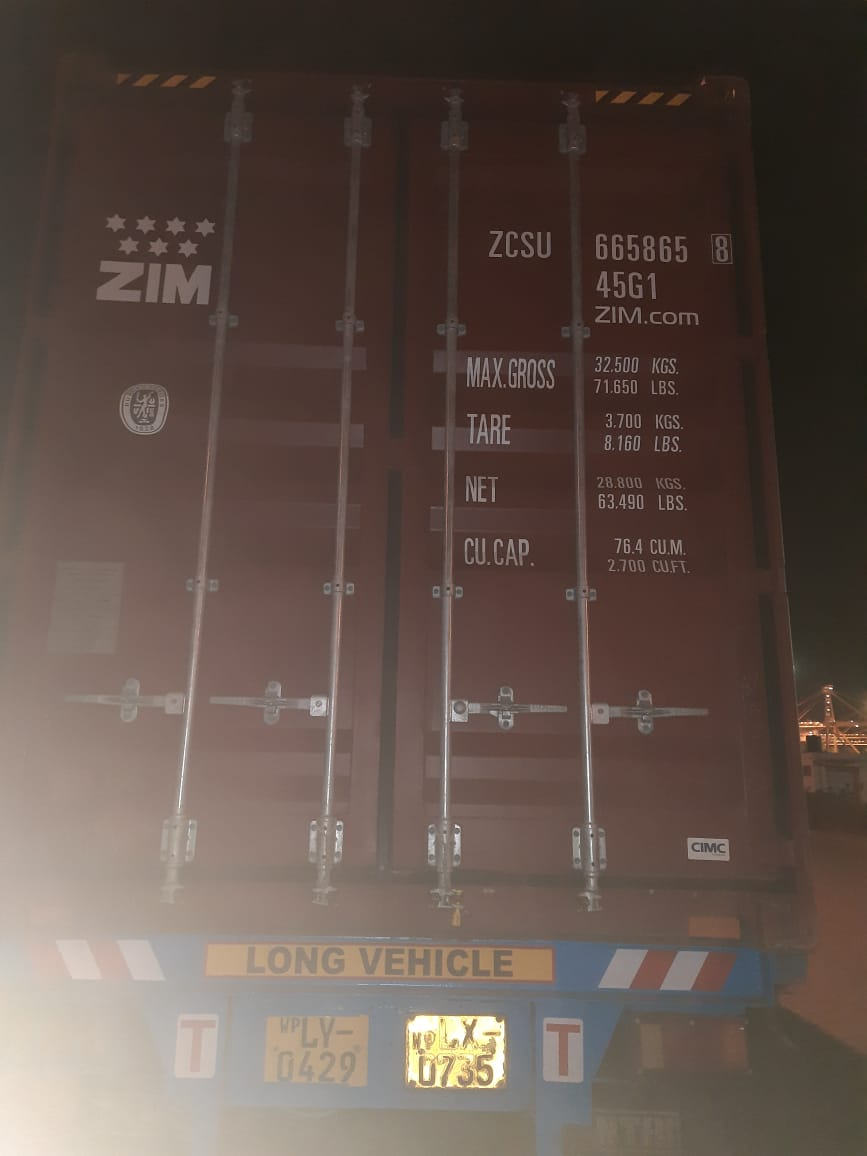rear_side: (1, 1, 806, 912)
